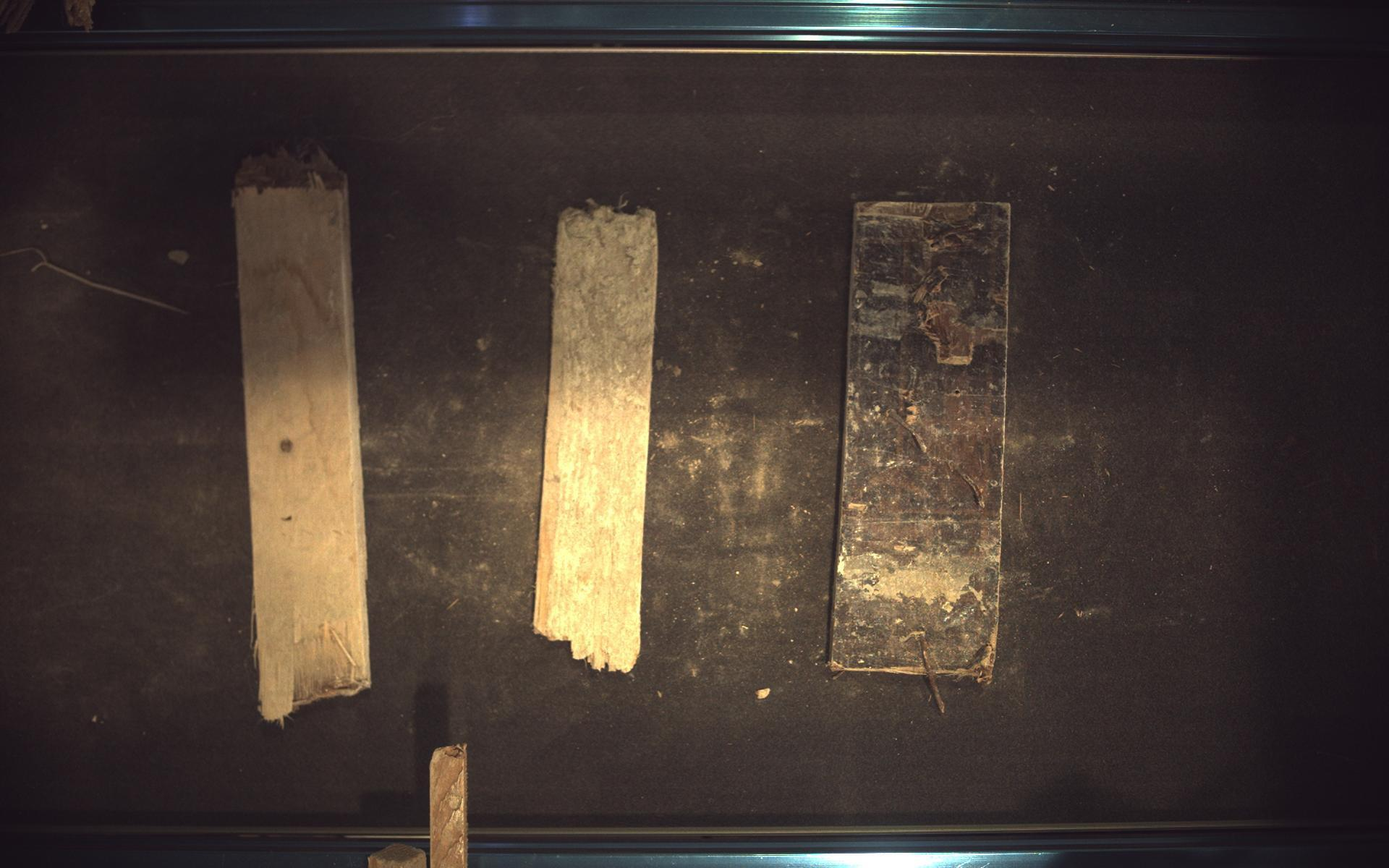wood: (831, 201, 1013, 715), (232, 142, 370, 723), (534, 205, 658, 673)
